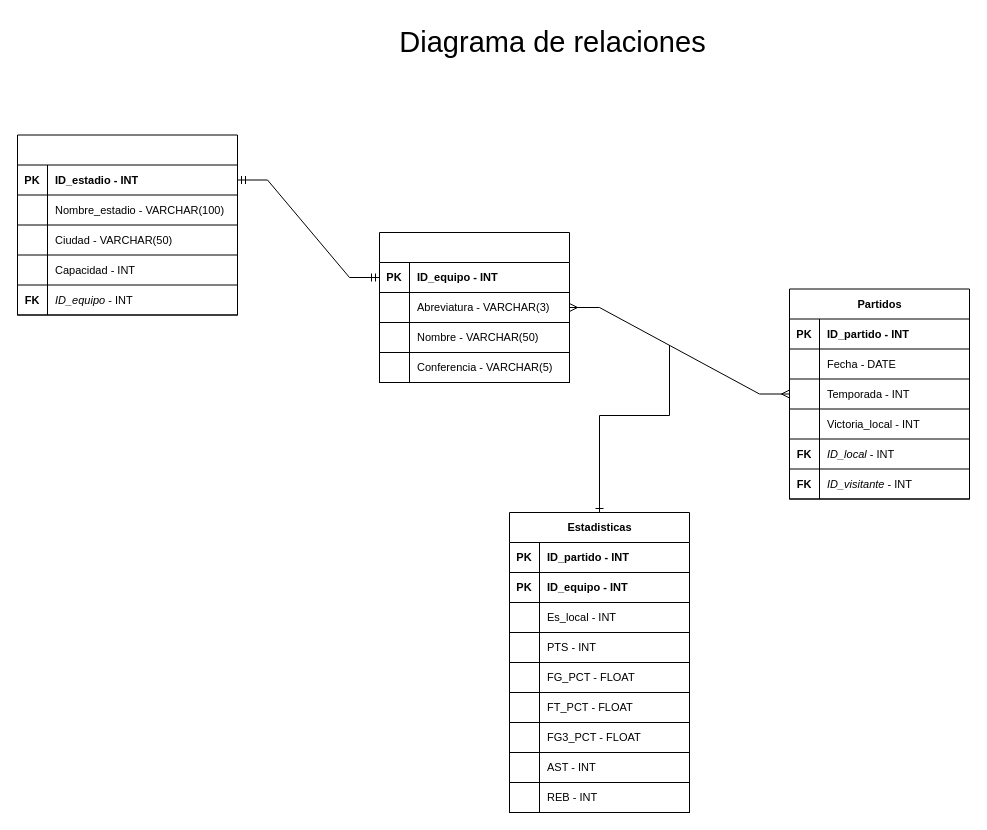
Some shapes in this 987 by 830 pixel diagram are drawn without their labels. The box of each missing label's shape, as (x1, y1, x2, y2) in pixels:
Equipos: (378, 232, 570, 382)
Estadios: (16, 134, 238, 315)
